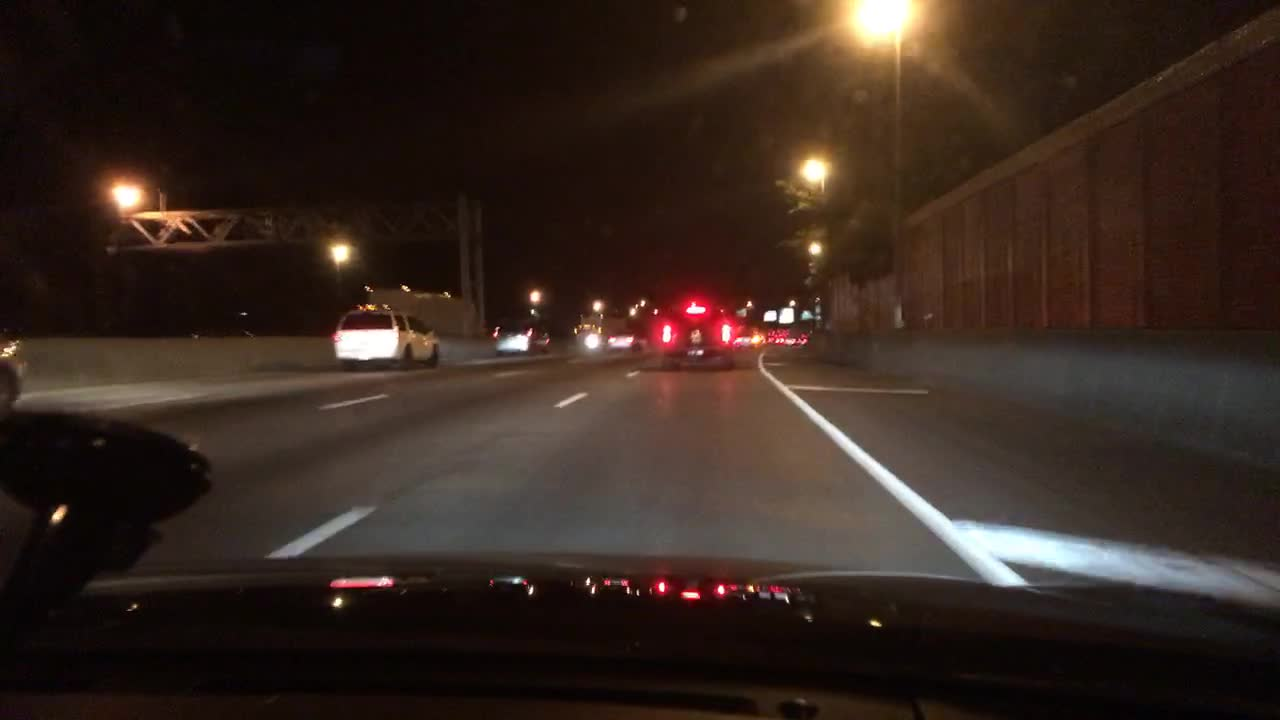car: (331, 305, 441, 366), (656, 299, 736, 371), (0, 330, 27, 410), (495, 319, 550, 356), (607, 331, 641, 350), (736, 325, 764, 343), (781, 334, 796, 347), (767, 333, 779, 343)
